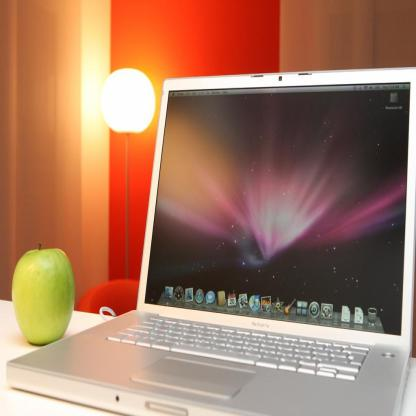board: (49, 59, 402, 415)
